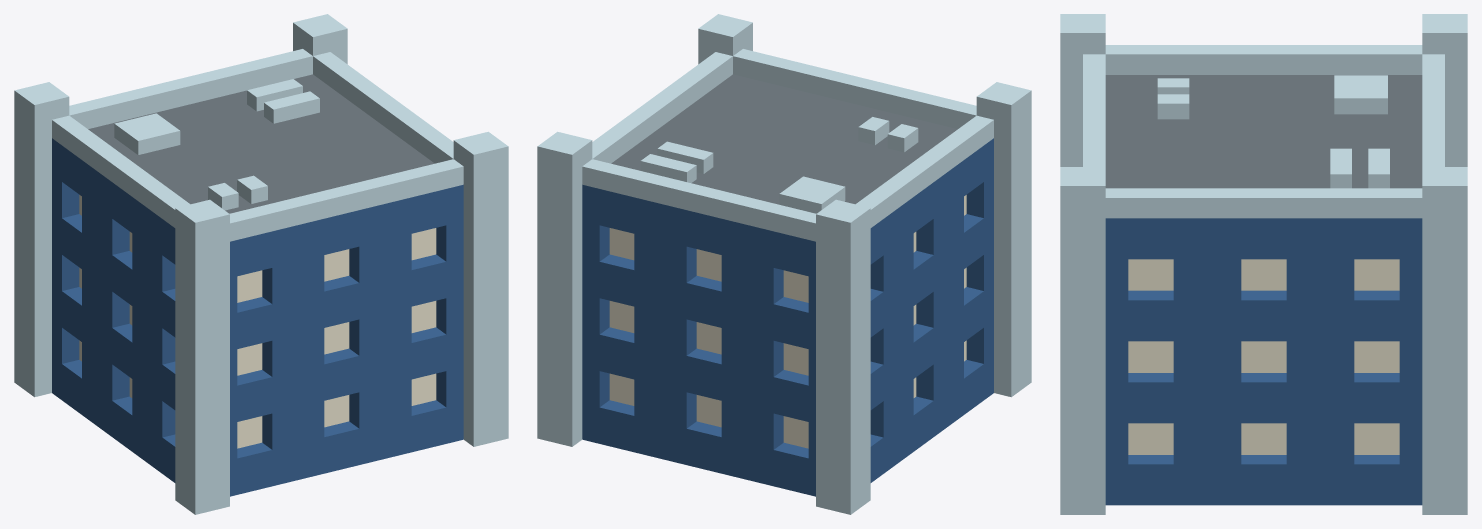
File: Building_11_Extra (Blue).obj
The picture shows the model from 3 angles, left to right: view 1: azimuth 30°, elevation 25°; view 2: azimuth 150°, elevation 25°; view 3: azimuth 270°, elevation 25°; orthographic projection. The views are drawn at different scales.
Visible parts, largest first — view 1: Building_11_Extra_(Blue); view 2: Building_11_Extra_(Blue); view 3: Building_11_Extra_(Blue).
Part boxes in pixels (bbox=[...]): Building_11_Extra_(Blue): bbox=[14, 14, 508, 514]; Building_11_Extra_(Blue): bbox=[537, 14, 1031, 514]; Building_11_Extra_(Blue): bbox=[1060, 14, 1467, 514].
Size of the model in its own units: 1.8 by 1.6 by 1.8.
